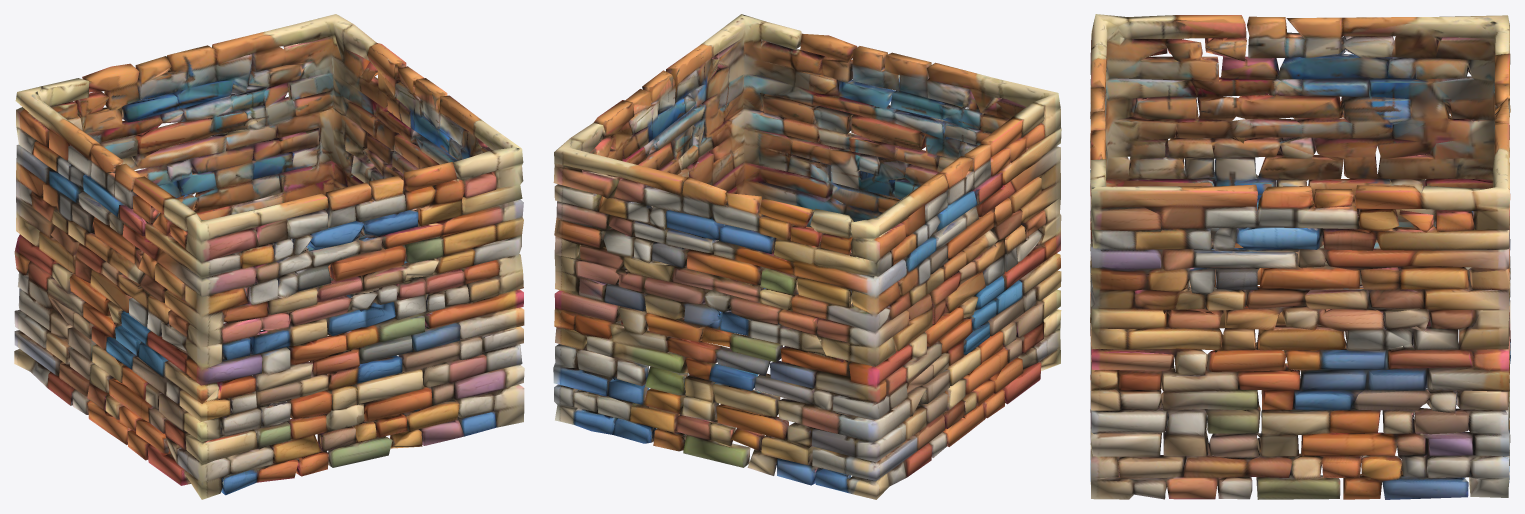
Rendered from wall.glb.
3 views of the same model, side by side, from view 1: azimuth 30°, elevation 25°; view 2: azimuth 150°, elevation 25°; view 3: azimuth 270°, elevation 25° (orthographic). The views are drawn at different scales.
Size of the model in its own units: 2 by 1.62 by 1.99.
1 material, 1 textured.
